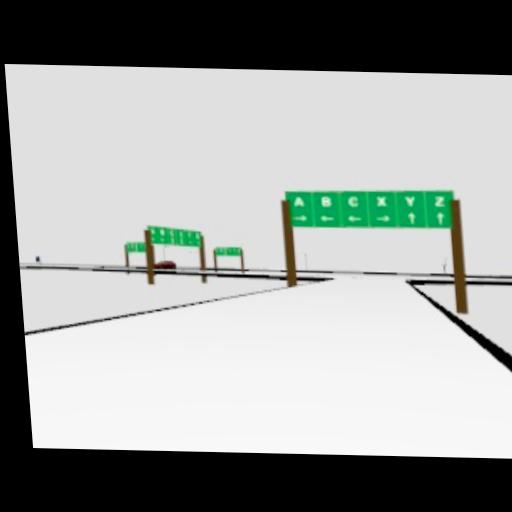A: (291, 195, 305, 208)
B: (319, 195, 333, 209)
C: (346, 194, 360, 209)
Left: (318, 214, 335, 224), (345, 214, 362, 223)
Right: (374, 213, 391, 223), (292, 215, 309, 224)
Straight: (407, 210, 418, 225), (435, 212, 446, 225)
X: (374, 195, 389, 207)
Y: (403, 194, 417, 208)
Z: (434, 194, 447, 207)
